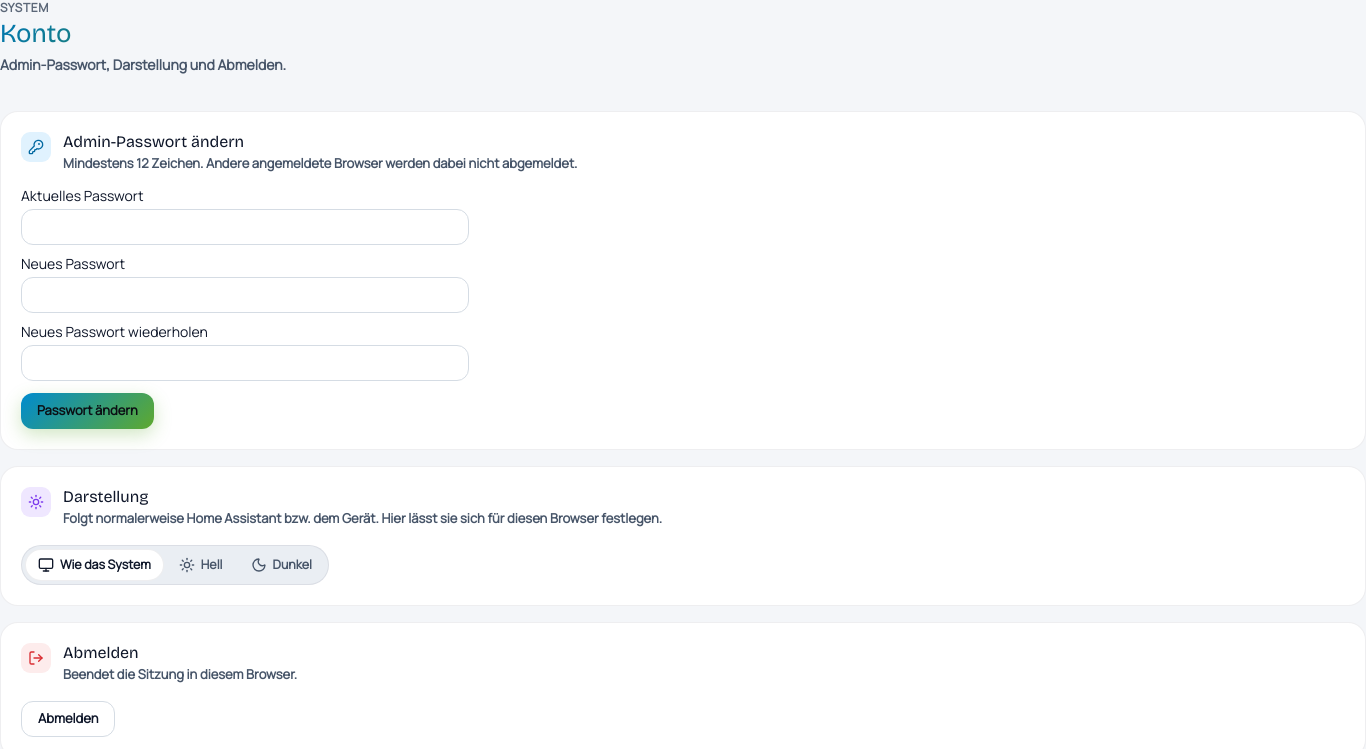
Konto › zeigt bei falschem aktuellem Passwort die Meldung der Anlage
The image size is (1366, 749).
Type "falsch" into the password field labelled "Aktuelles Passwort" at (245, 227), box [21,209,469,245]
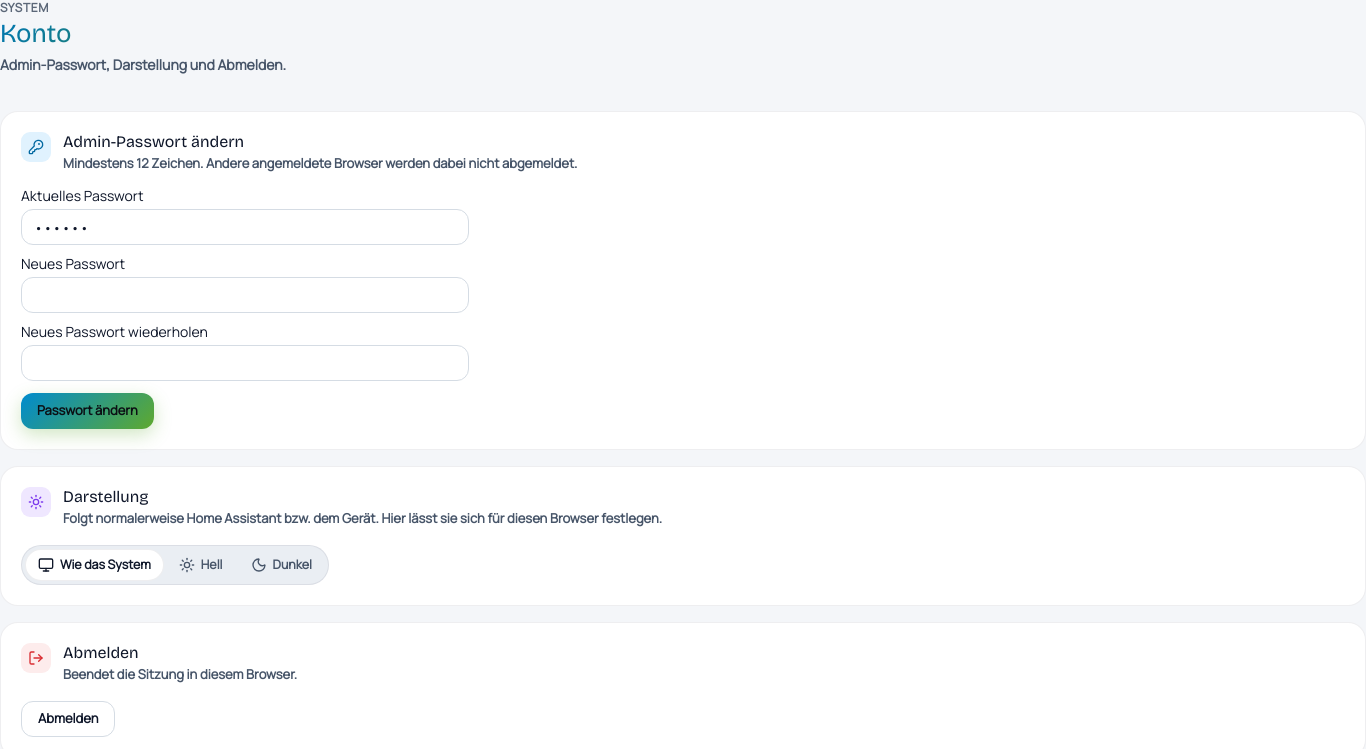
Type "ein-sehr-gutes-passwort" into the password field labelled "Neues Passwort" at (245, 295), box [21,277,469,313]
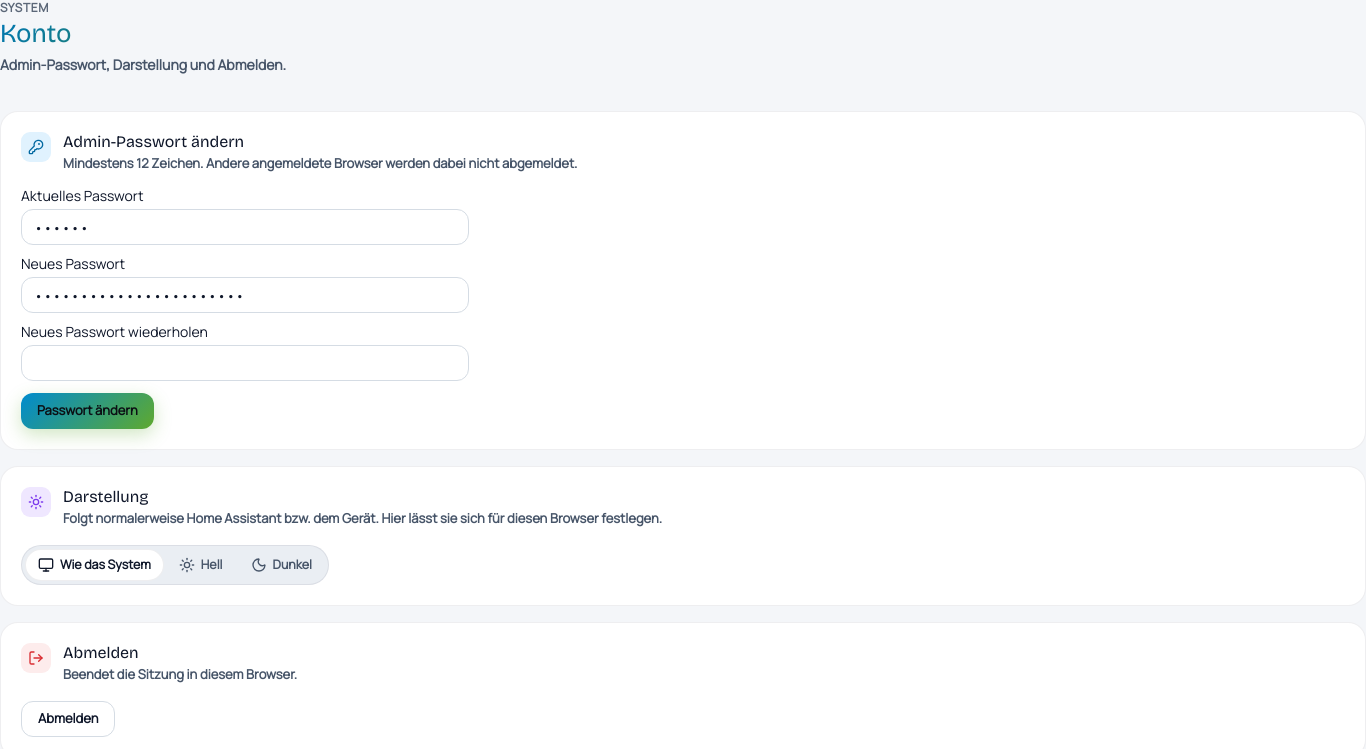
Type "ein-sehr-gutes-passwort" into the password field labelled "Neues Passwort wiederholen" at (245, 363), box [21,345,469,381]
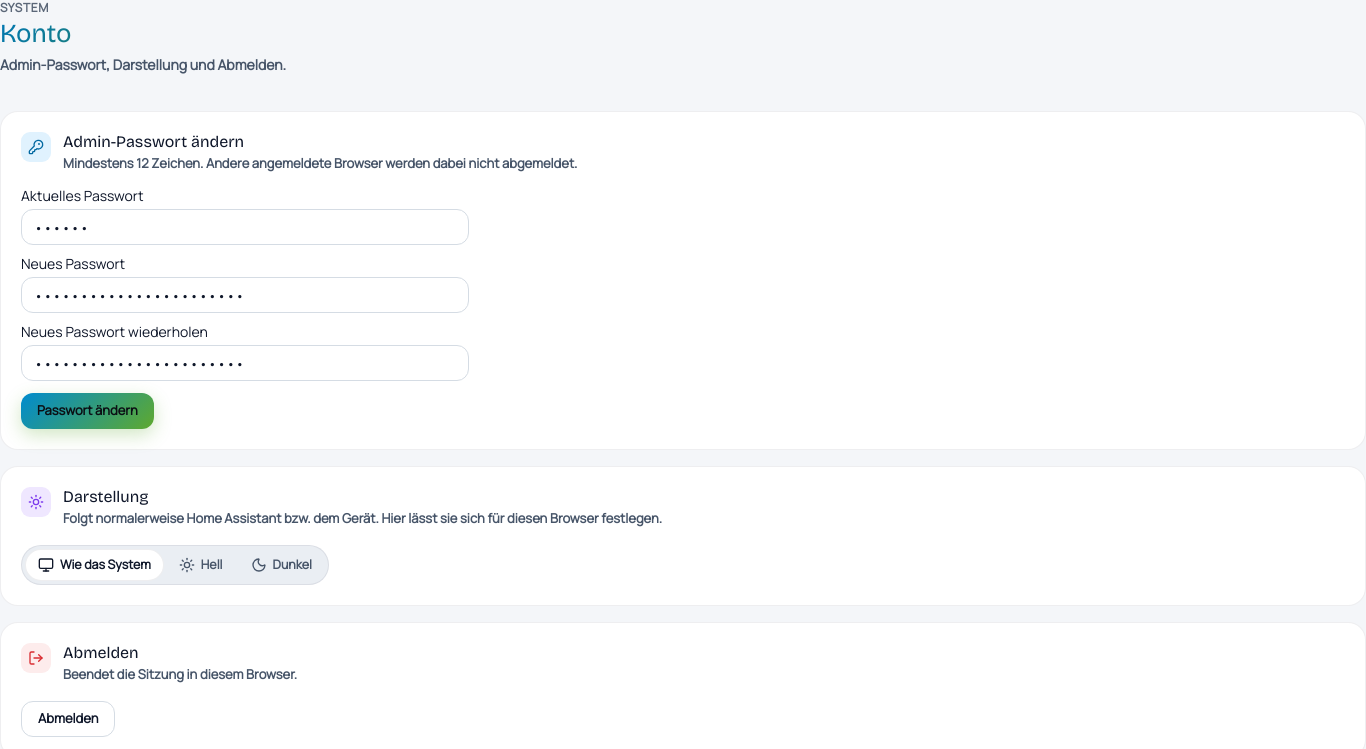
Click the button "Passwort ändern" at (87, 411), box [21,393,154,429]
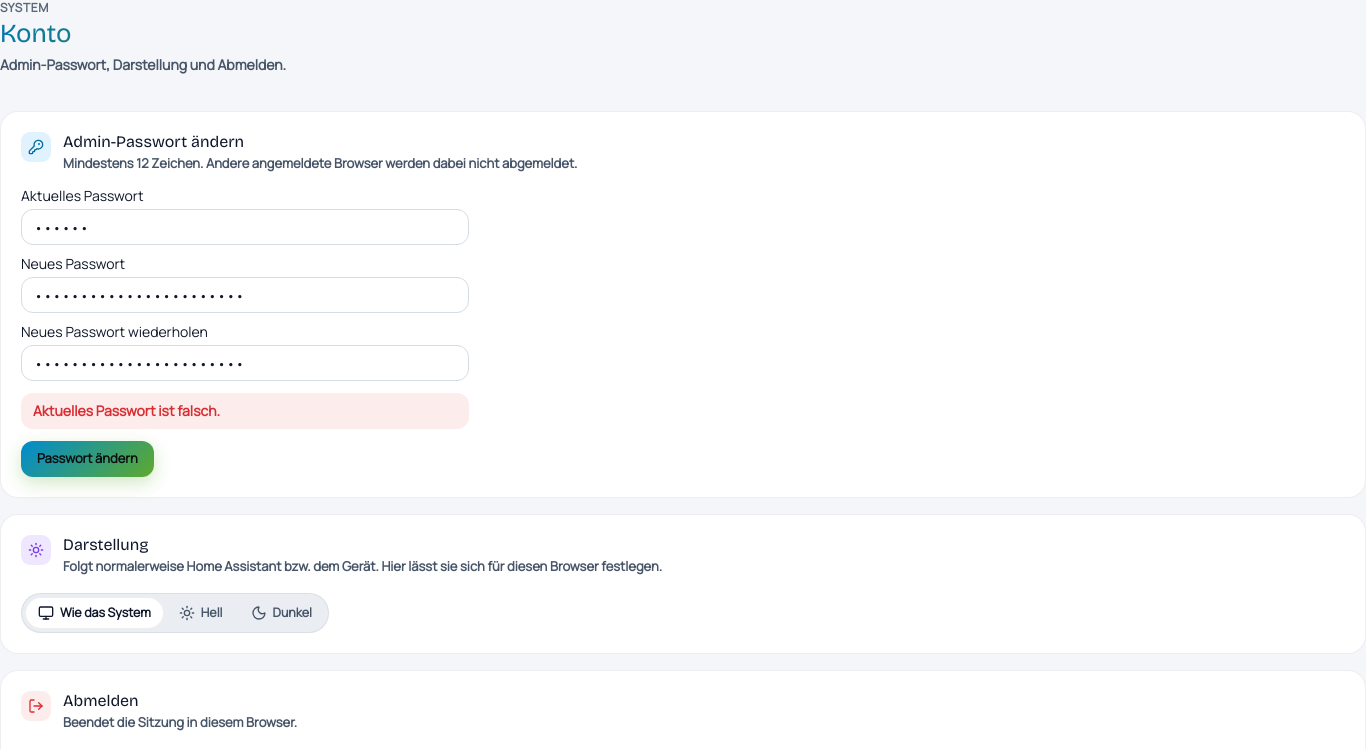
Expected: the message reads "Aktuelles Passwort ist falsch.", [33,401,220,420]
